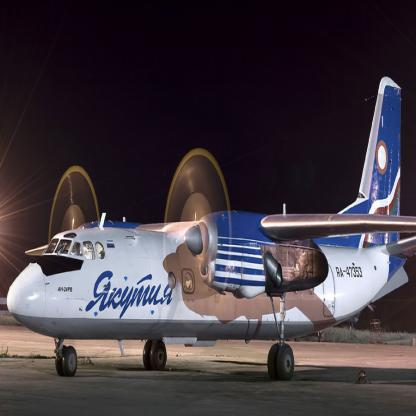CIV_Plane: (5, 67, 414, 384)
